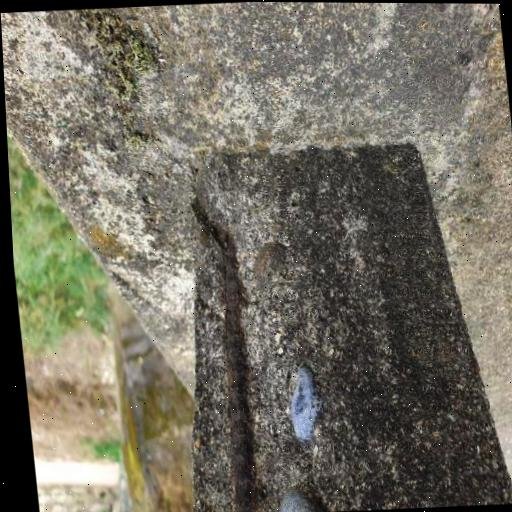exposed_rebar: (225, 233, 257, 512)
